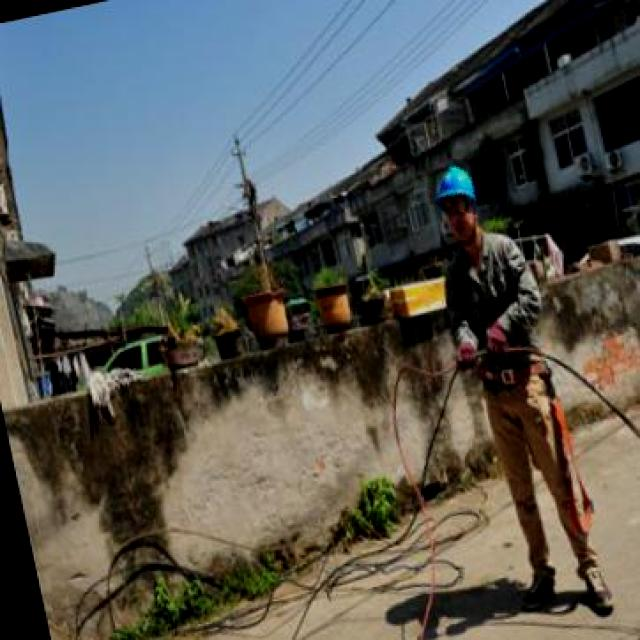helmet: (414, 157, 502, 215)
